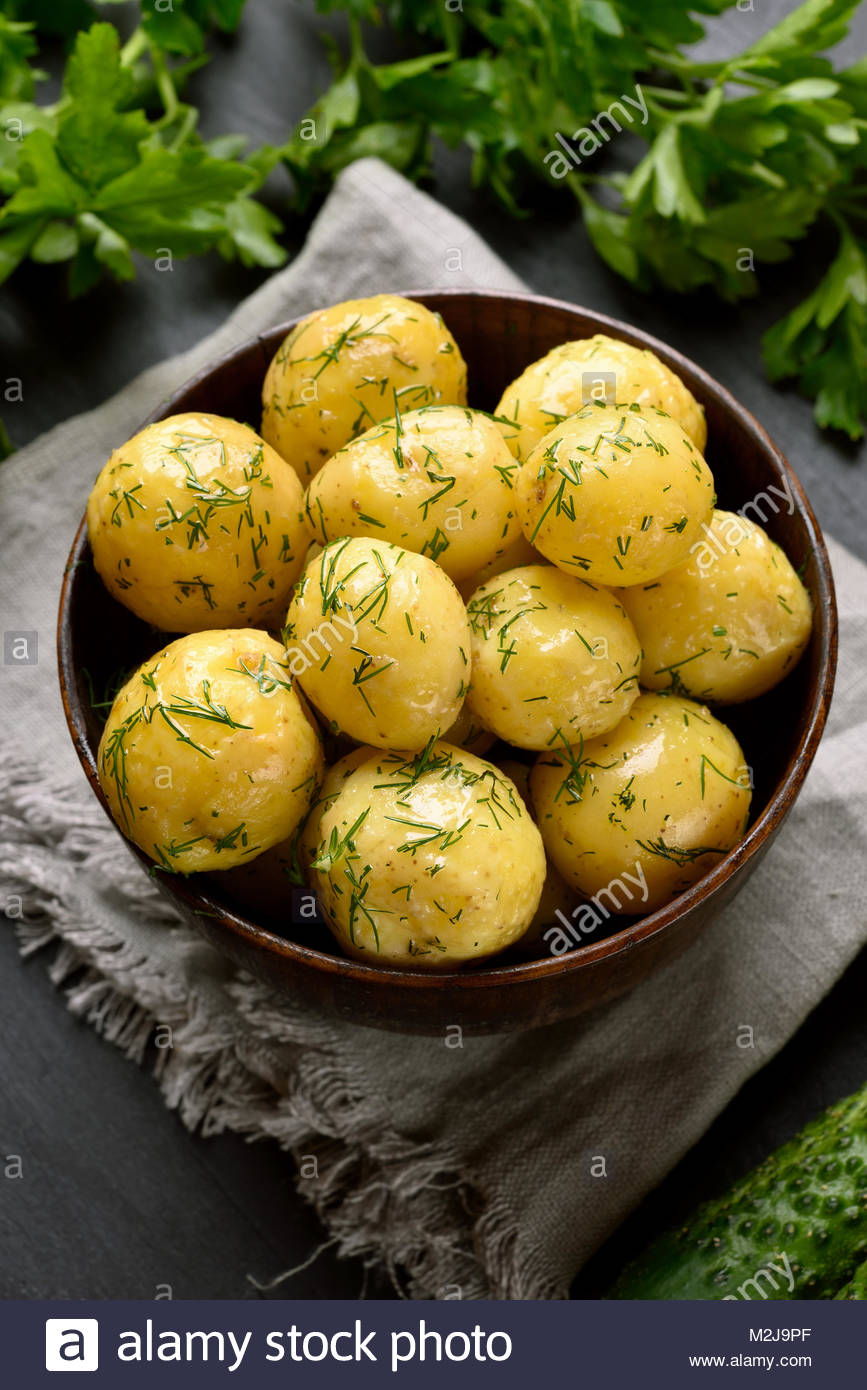boiled potatoes: (128, 415, 719, 859)
